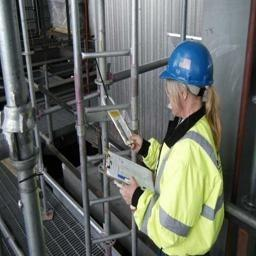hat: (160, 39, 215, 88)
vest: (152, 117, 220, 254)
